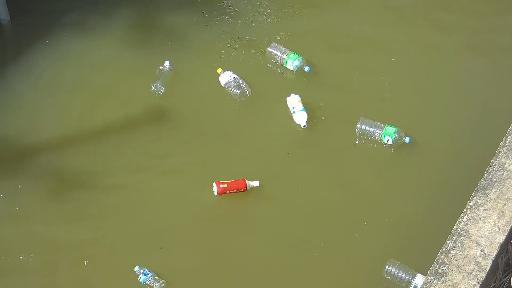plastic: (261, 40, 322, 82), (357, 119, 422, 153), (146, 55, 189, 103), (211, 67, 263, 100), (380, 257, 434, 288), (279, 91, 317, 131), (133, 260, 171, 288), (213, 177, 272, 194)
